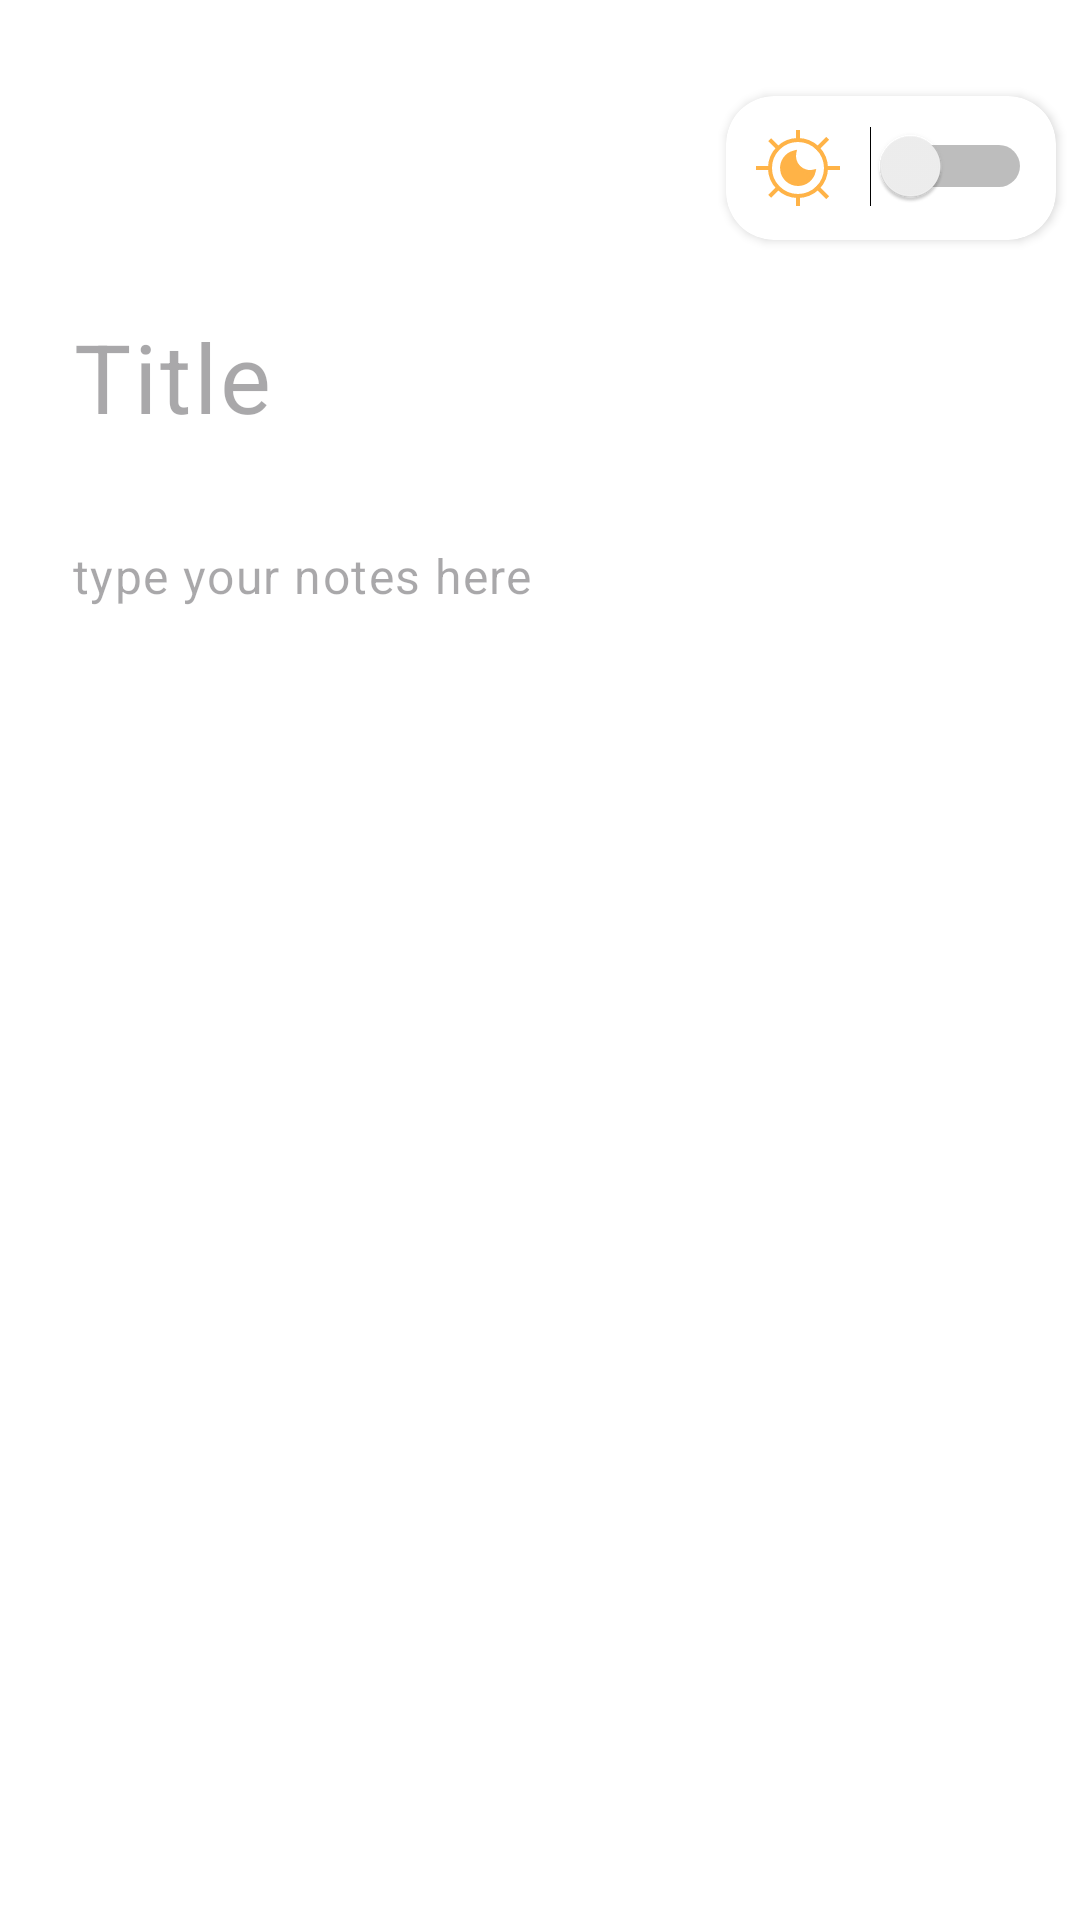

Locate icon controls on the screen. Image size 1080x1920, boxes as (x1, y1, x2, y2).
night: (756, 130, 840, 206)
